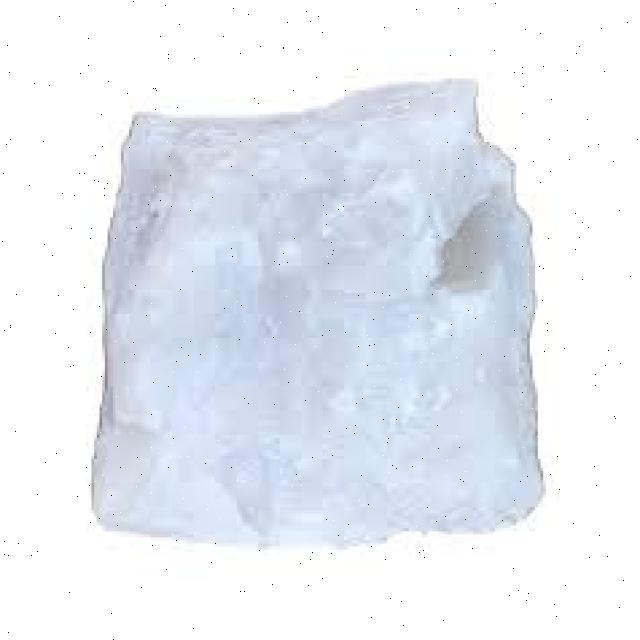Metamorphic: (89, 79, 575, 562)
